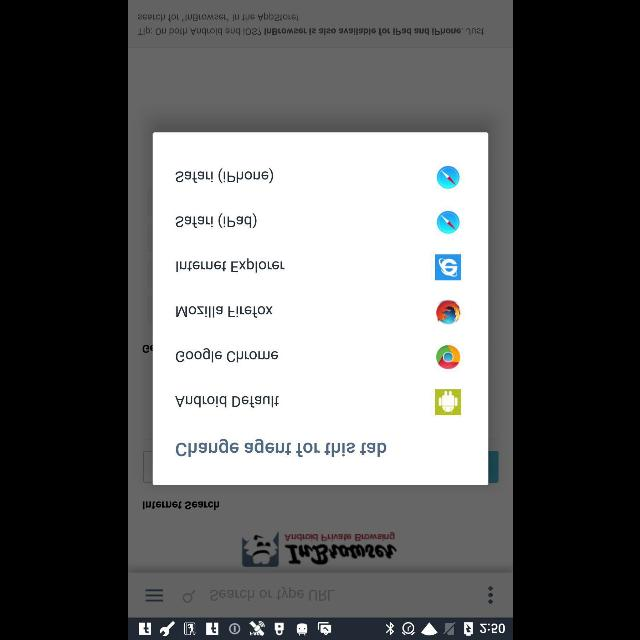icon: (145, 588, 163, 602), (182, 590, 194, 602), (488, 586, 492, 604)
image: (242, 532, 396, 566), (435, 254, 461, 280), (435, 389, 461, 415), (436, 300, 460, 324), (436, 345, 460, 369), (436, 210, 458, 233), (436, 166, 458, 188)
panel: (152, 132, 488, 486)
text: (137, 12, 483, 36), (174, 438, 386, 458), (210, 586, 334, 602), (175, 168, 273, 184), (176, 258, 284, 272), (175, 348, 278, 362), (174, 213, 256, 229), (174, 396, 278, 408), (175, 306, 272, 318), (143, 502, 220, 511)
uppertaskbar: (128, 617, 512, 639)
